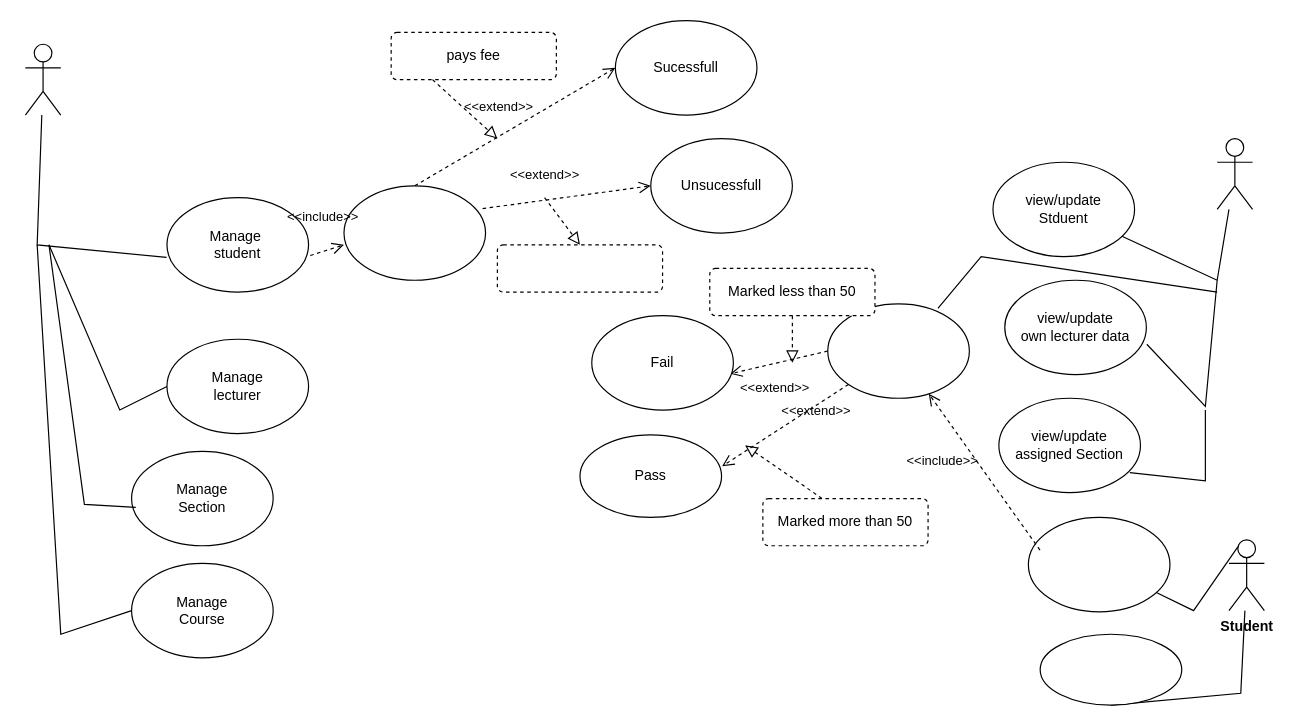
The diagram is 1293 pixels wide and 727 high, and some of its shapes have lost their labels. The shapes that lost their labels are listed below. From the top down, each one's box as (x1, y1, x2, y2) in pixels, then its label:
(24, 43, 61, 115): ADMIN
(1216, 137, 1253, 209): Lecturer
(343, 185, 486, 280): Enroll
(496, 244, 663, 292): Doesnot pay fee
(827, 303, 969, 398): assignment
(1027, 516, 1170, 612): View/Update own Student deatils
(1039, 633, 1182, 705): View assigned Course
